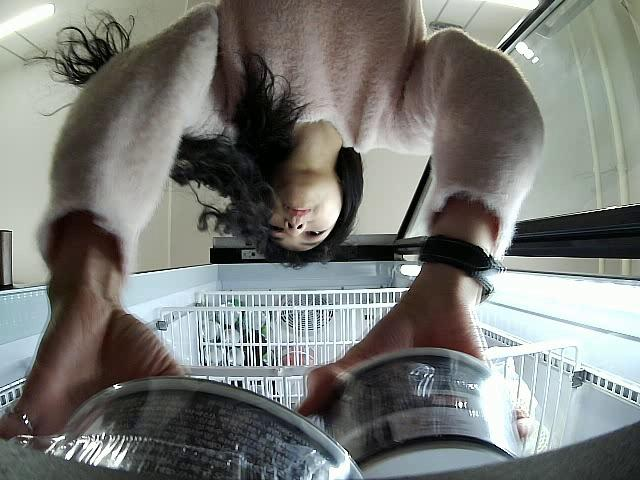00_hand: (0, 305, 185, 444), (289, 304, 492, 424)
07_buldak_L: (44, 377, 365, 480)
